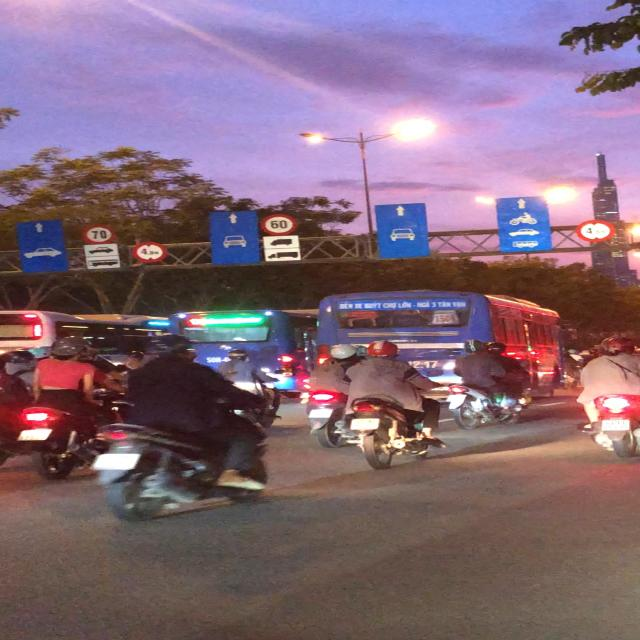Bien bao han che chieu cao: (574, 218, 616, 245), (129, 241, 169, 263)
Bien bao toc do toi da cho phep: (78, 222, 122, 246), (256, 210, 297, 235)
